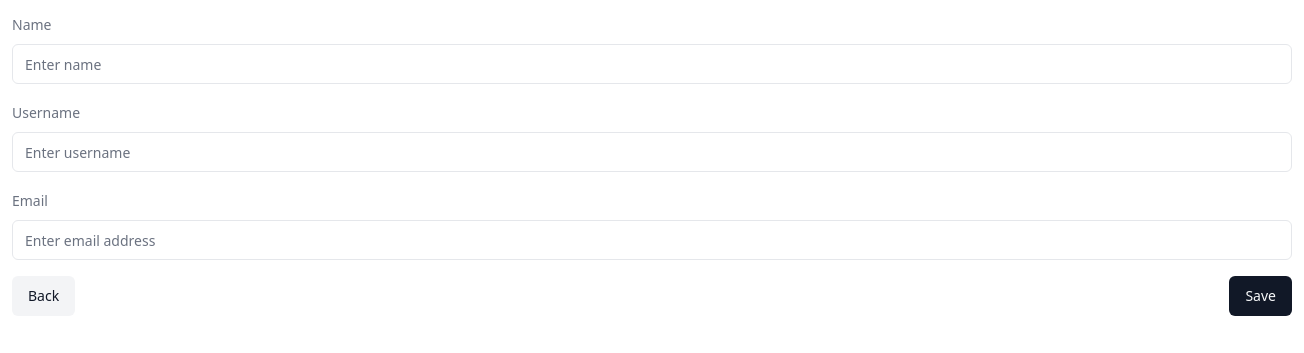
Test: Form Create User › should display matching error when email is invalid
In the field with placeholder "Enter name": (652, 64) left=12, top=44, right=1292, bottom=84, type "name"
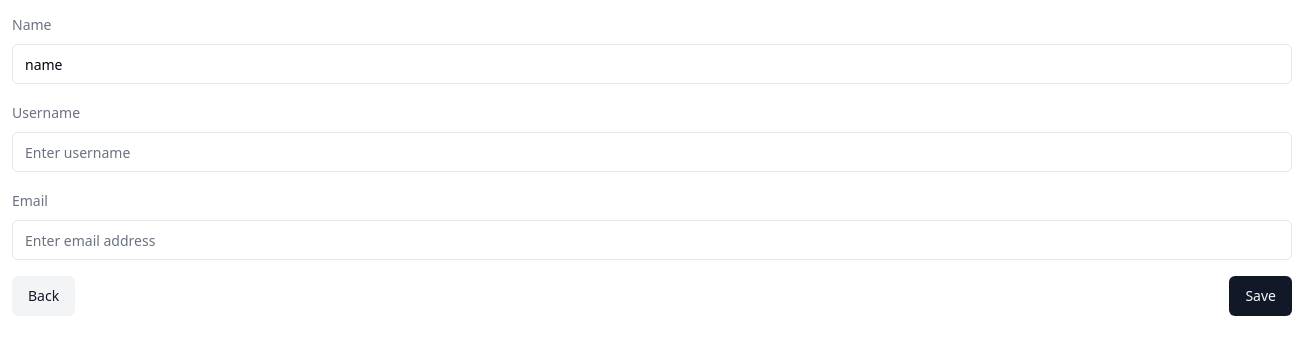
In the field with placeholder "Enter username": (652, 152) left=12, top=132, right=1292, bottom=172, type "username"
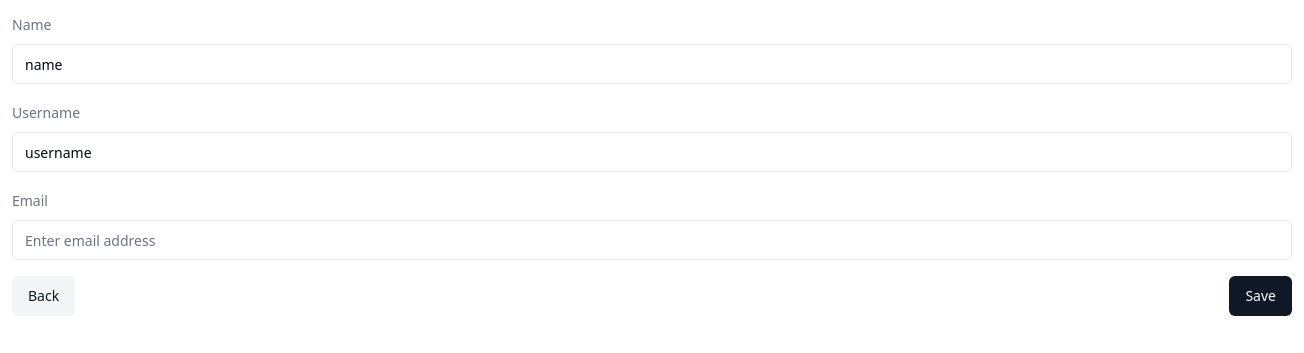
In the field with placeholder "Enter email address": (652, 240) left=12, top=220, right=1292, bottom=260, type "test"
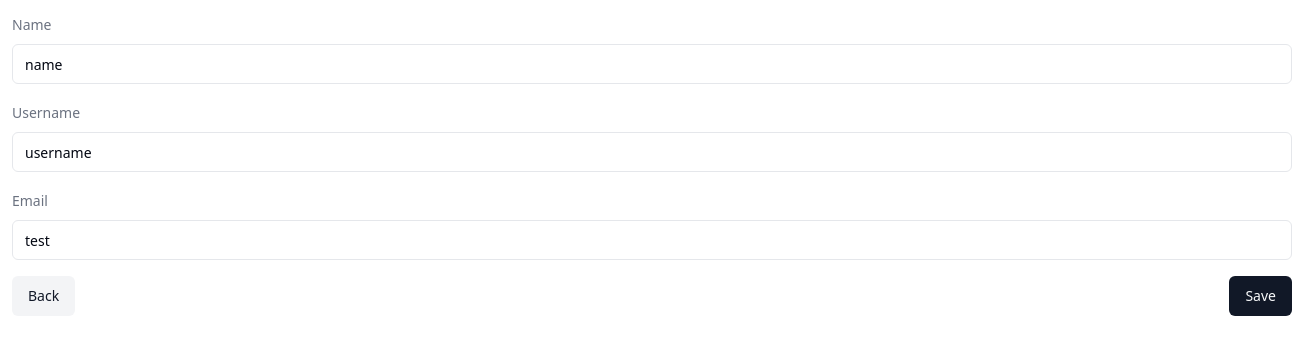
Submit the form from the button "Save", box left=1229, top=276, right=1292, bottom=316
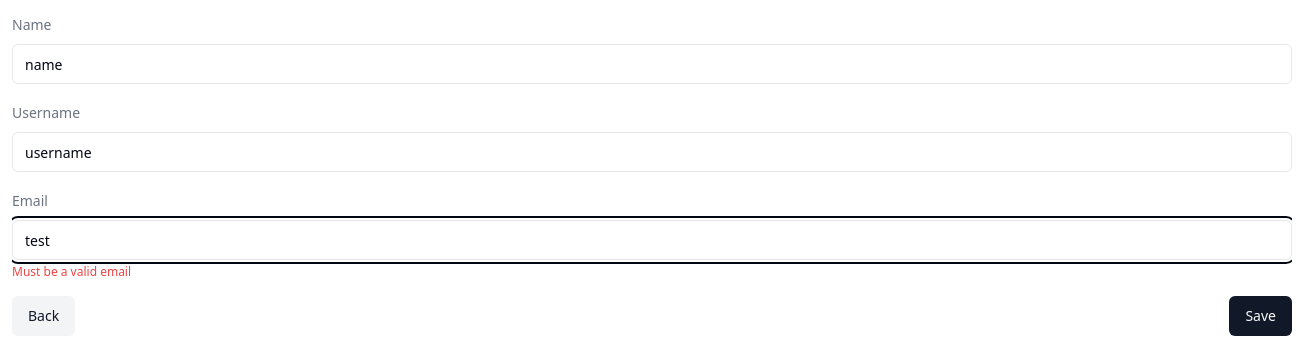
Result: the number of messages is 1 at left=12, top=263, right=131, bottom=280
